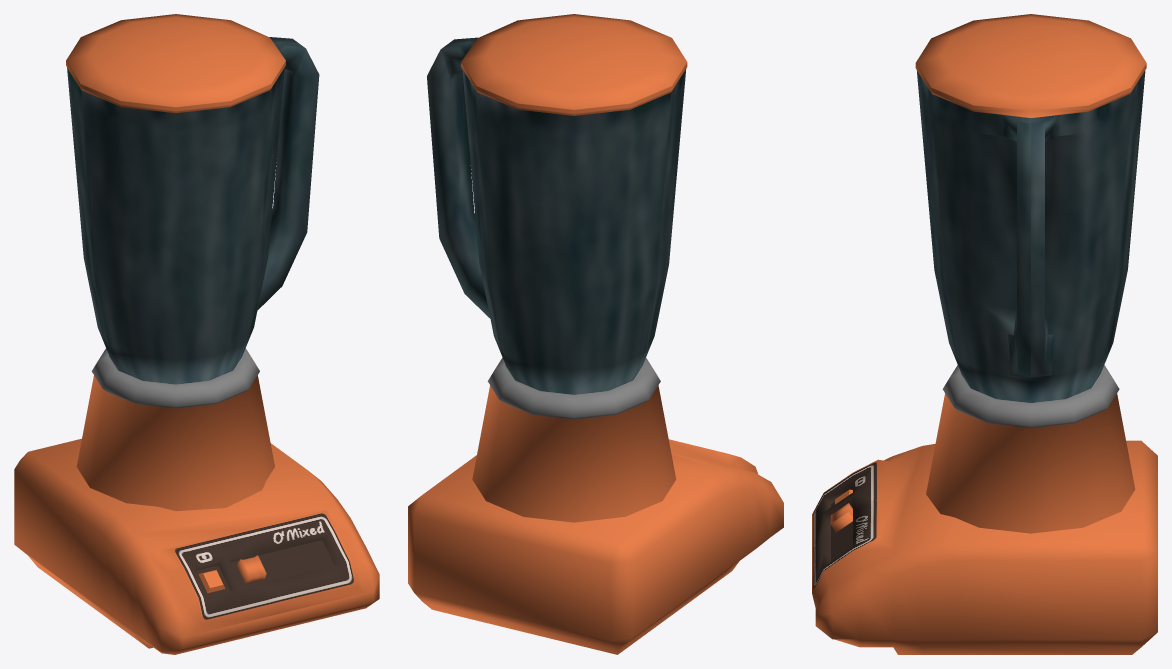
The model's file is Mixer.glb.
3 views of the same model, side by side, from view 1: azimuth 30°, elevation 25°; view 2: azimuth 150°, elevation 25°; view 3: azimuth 270°, elevation 25° (orthographic). The views are drawn at different scales.
Parts seen in each view (by area): view 1: Stand; view 2: Stand; view 3: Stand.
Part boxes in pixels (left/top/right/bottom): Stand: left=14, top=14, right=379, bottom=654; Stand: left=408, top=14, right=783, bottom=654; Stand: left=812, top=14, right=1157, bottom=654.
Size of what is drawn, in the model's own units: 0.6345 by 1.32 by 0.7352.
2 materials, 1 textured.
